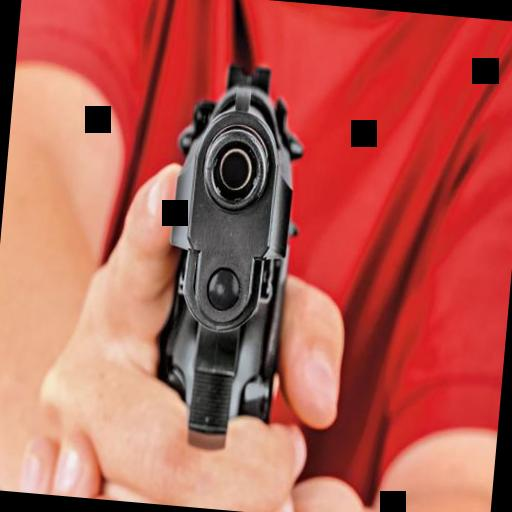Handgun: (138, 26, 319, 456)
